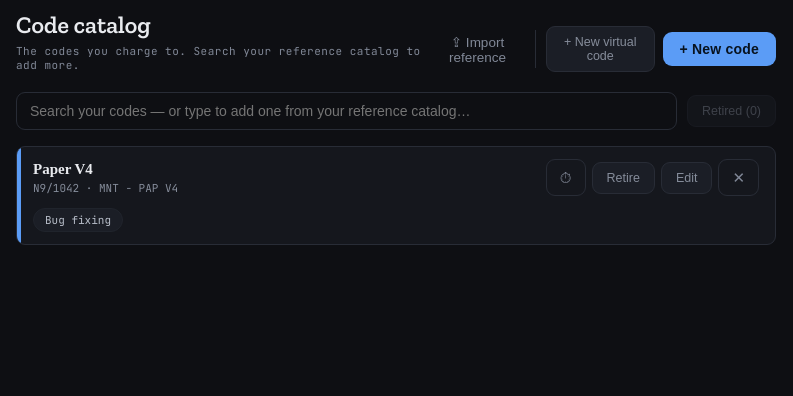
CodeCatalogScreen › shows a no-match message when the query matches none of your codes (BIZ-073)
Replace the text in the field with placeholder "Search your codes" with "zzzznomatch" at (346, 111), box [16,92,677,130]
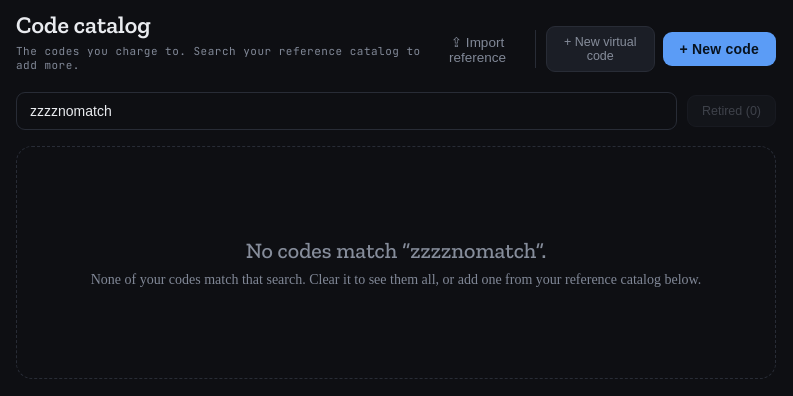
Expected: the text "No codes match “zzzznomatch”." is shown, [246,237,546,264]
Expected: the text "Paper V4" is gone
